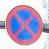No Parking: (7, 5, 45, 46)
